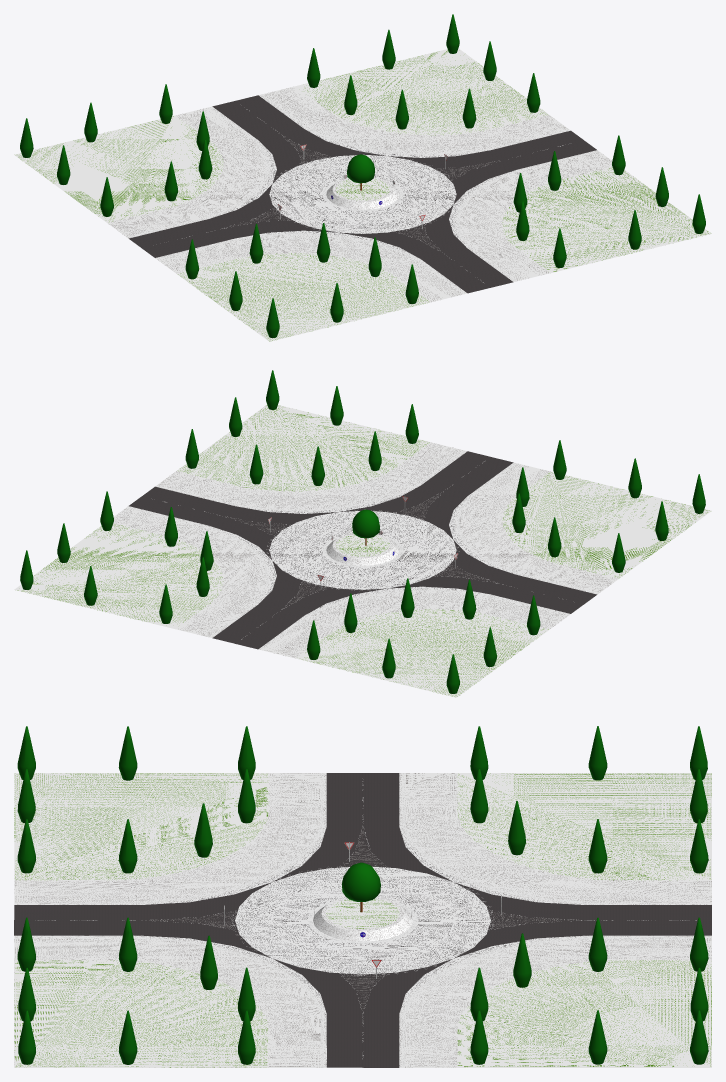
The picture shows the model from 3 angles, top to bottom: view 1: azimuth 30°, elevation 25°; view 2: azimuth 150°, elevation 25°; view 3: azimuth 270°, elevation 25°; orthographic projection. The views are drawn at different scales.
Parts seen in each view (by area): view 1: group_0 (×16), SketchUp (×8), Icon_z3_tree; view 2: group_0 (×16), SketchUp (×8), Icon_z3_tree; view 3: group_0 (×16), SketchUp (×17), Icon_z_tree (×32), Icon_z3_tree.
Boxes of the visible parts, left/top/right/bottom form: group_0 (×16): left=14, top=48, right=711, bottom=341; SketchUp (×8): left=129, top=95, right=596, bottom=293; Icon_z3_tree: left=347, top=154, right=374, bottom=183; group_0 (×16): left=14, top=405, right=711, bottom=697; SketchUp (×8): left=129, top=451, right=596, bottom=649; Icon_z3_tree: left=352, top=509, right=379, bottom=538; group_0 (×16): left=14, top=773, right=711, bottom=1067; SketchUp (×17): left=14, top=773, right=711, bottom=1067; Icon_z_tree (×32): left=17, top=739, right=708, bottom=1064; Icon_z3_tree: left=342, top=862, right=380, bottom=901.
Size of the model in its own units: 2803 by 2804 by 241.
